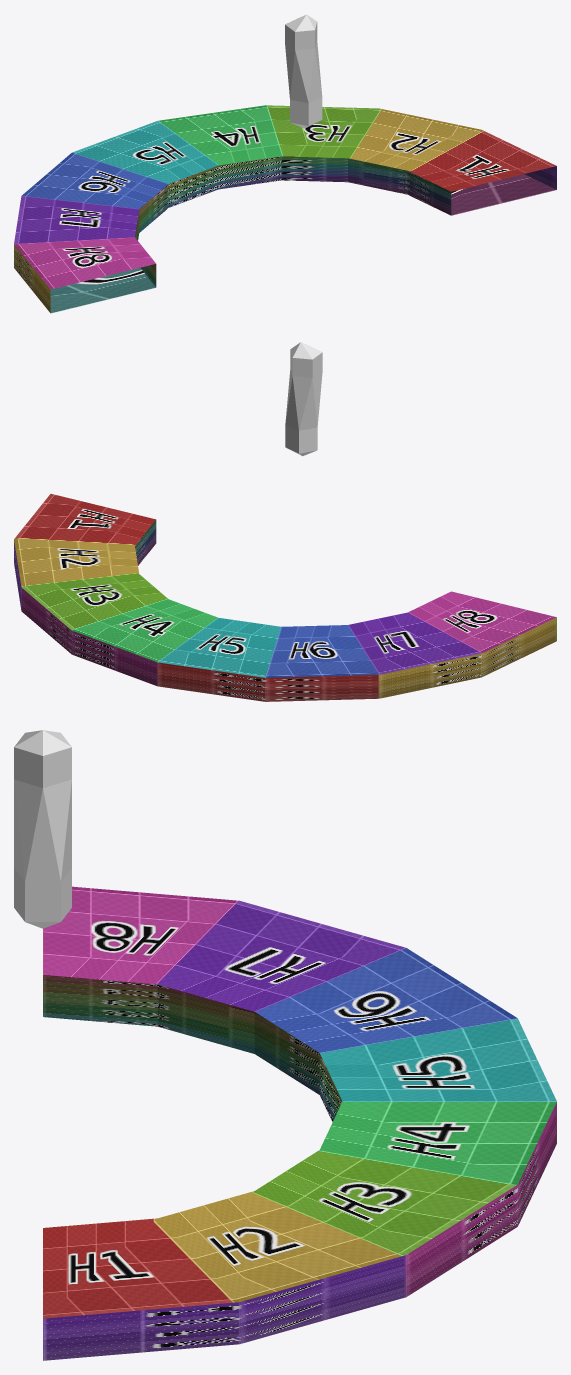
Rendered from Crystal.fbx.
The picture shows the model from 3 angles, top to bottom: view 1: azimuth 30°, elevation 25°; view 2: azimuth 150°, elevation 25°; view 3: azimuth 270°, elevation 25°; orthographic projection. The views are drawn at different scales.
Parts seen in each view (by area): view 1: Cylinder, Icosphere; view 2: Cylinder, Icosphere; view 3: Cylinder, Icosphere.
Boxes of the visible parts, x1,y1,x2,y2 form: Cylinder: (14, 105, 556, 313); Icosphere: (285, 14, 322, 128); Cylinder: (14, 494, 556, 701); Icosphere: (285, 342, 322, 456); Cylinder: (43, 886, 556, 1360); Icosphere: (14, 730, 71, 928).
Size of the model in its own units: 8.82 by 3.94 by 4.66.
1 material, 1 textured.
